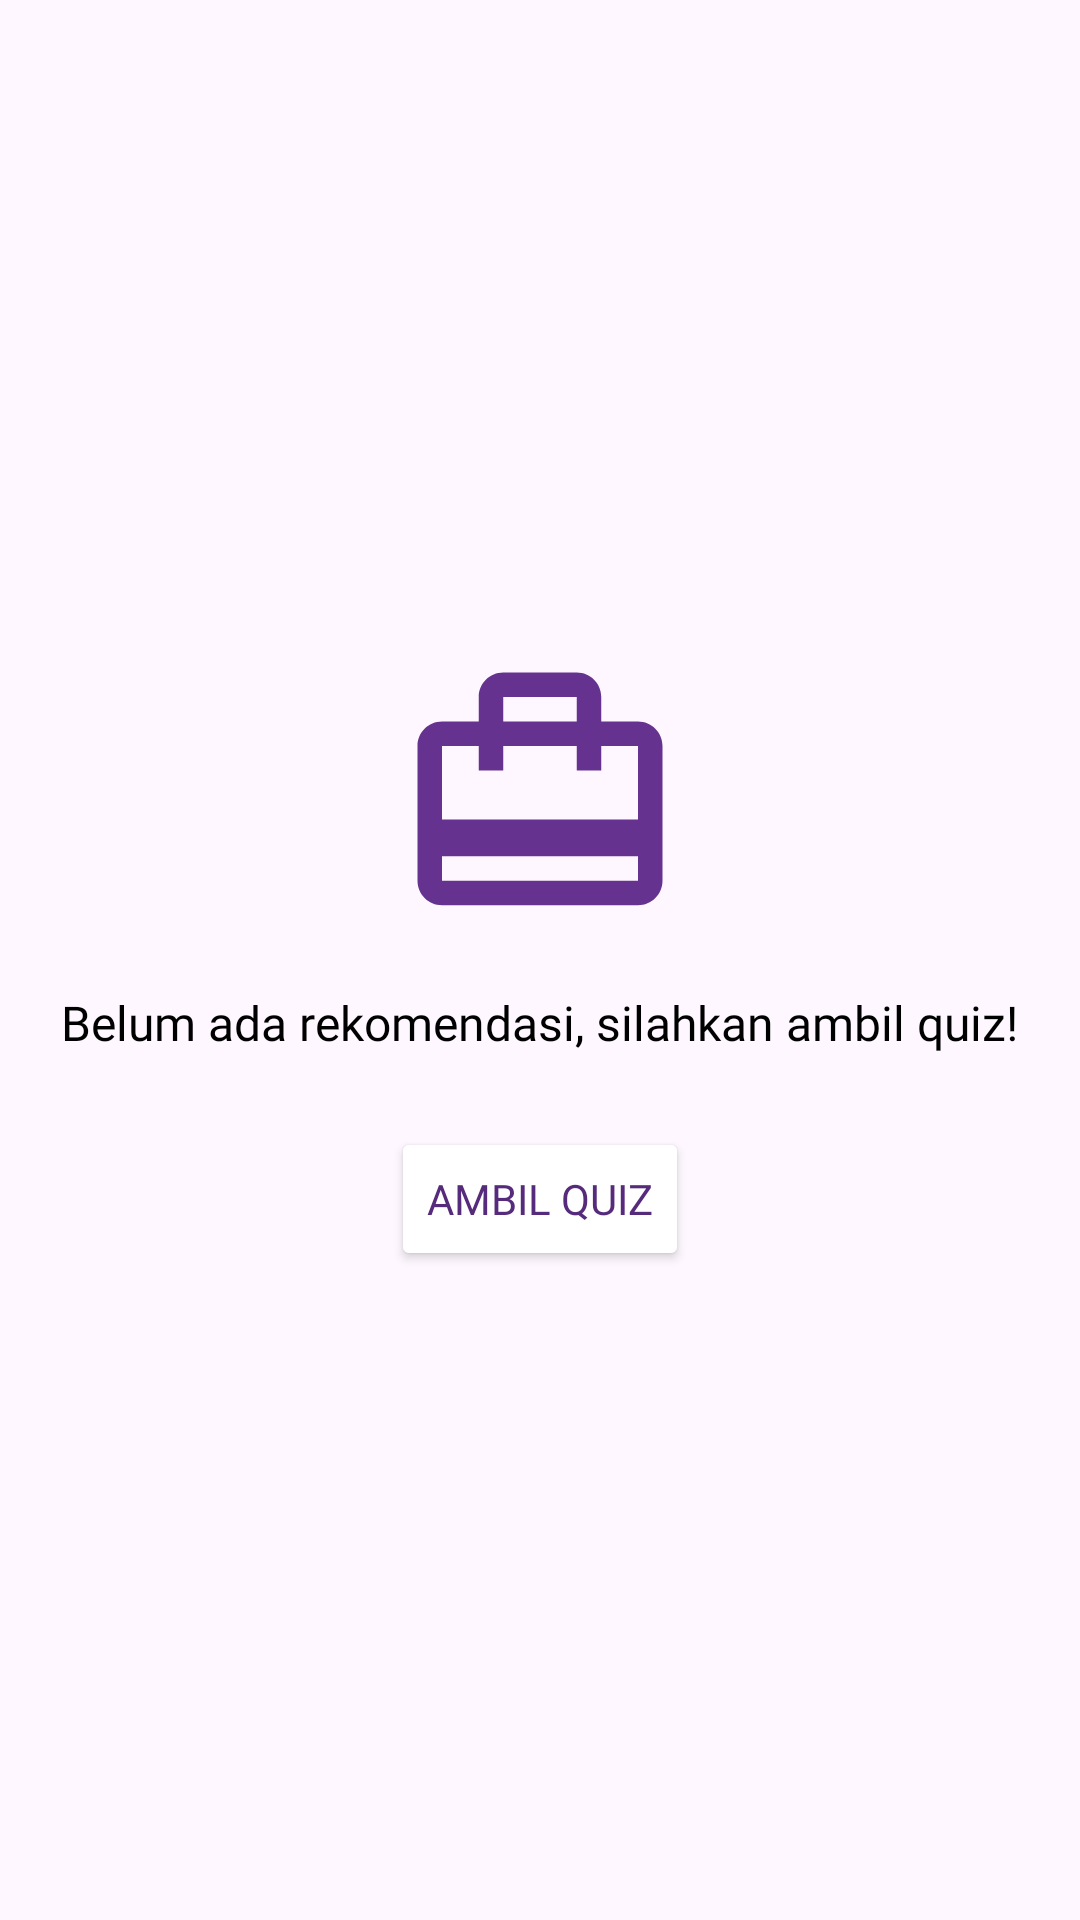

Screen size 1080px×1920px. Icon name, then its box in pixels as [x1,y1,x2,y2]:
catalog home: [417,672,663,906]
